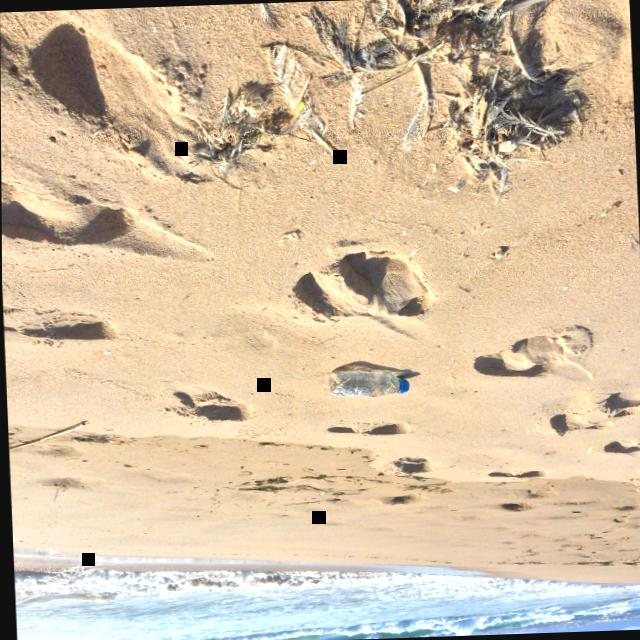Clear plastic bottle: (327, 368, 407, 396)
Plastic bottle cap: (398, 376, 407, 392)
Unlabeled litter: (287, 101, 303, 126)
